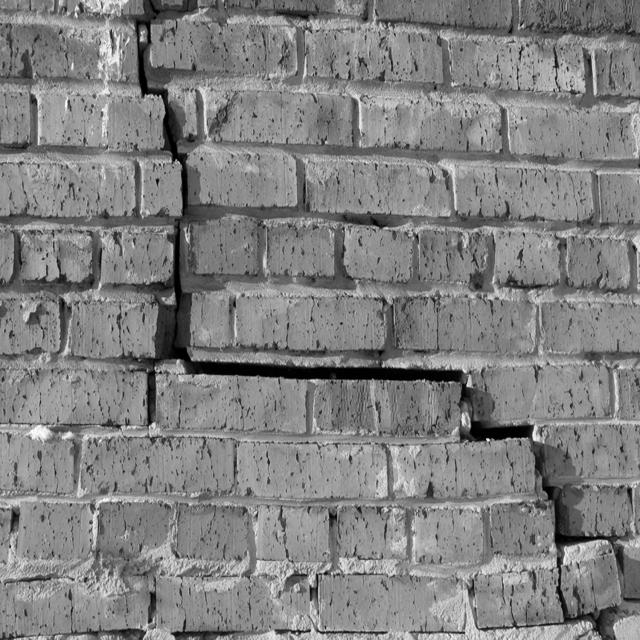Wall_Cracks: (64, 1, 640, 626)
